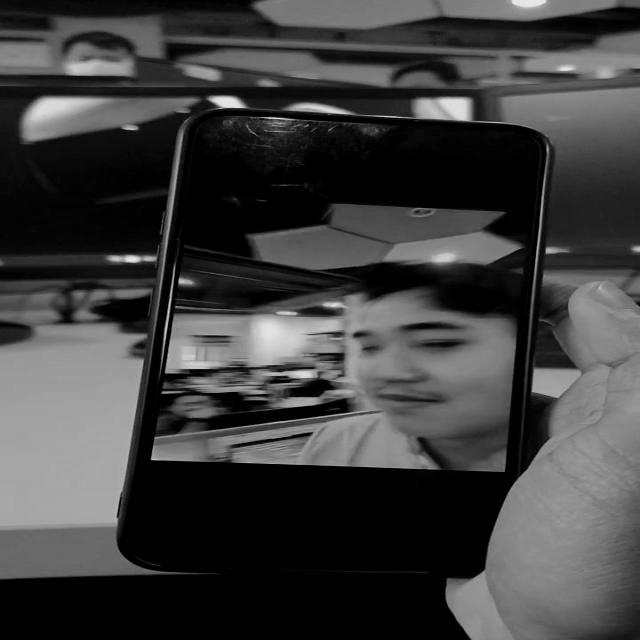fake: (105, 100, 559, 580)
